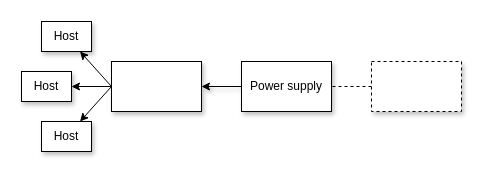
Image size: 485x176. Some labels were removed from this diagram. The centre of each missing label's shape, as x and y in pixels:
Carbon Trace: the point at 417,87
Multiplexer: the point at 157,87
